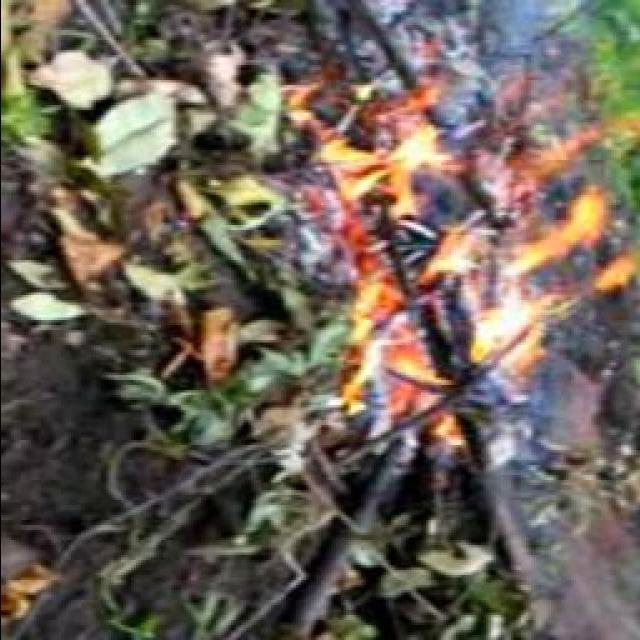Fire: (323, 57, 611, 445)
